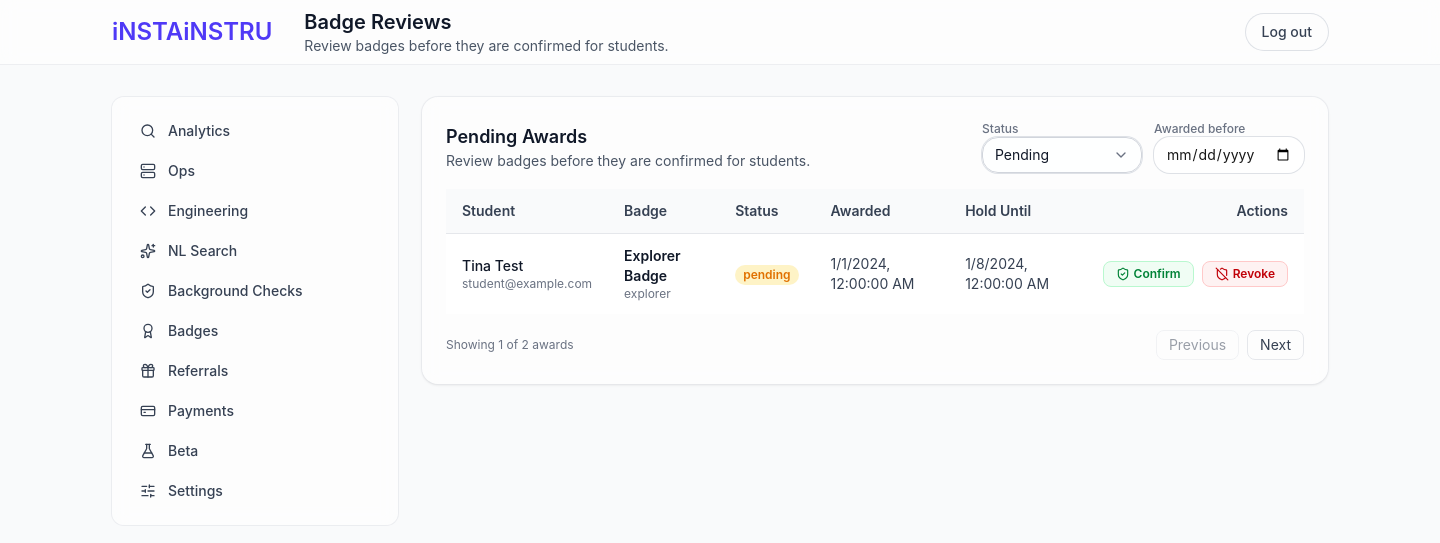
Test case: AdminPendingBadgesPage › requests next page when pagination advances
Expected: the text "Explorer Badge" is shown, [624,247,681,284]
Click the button "Next" at point(1276, 345), box [1247,330,1304,360]
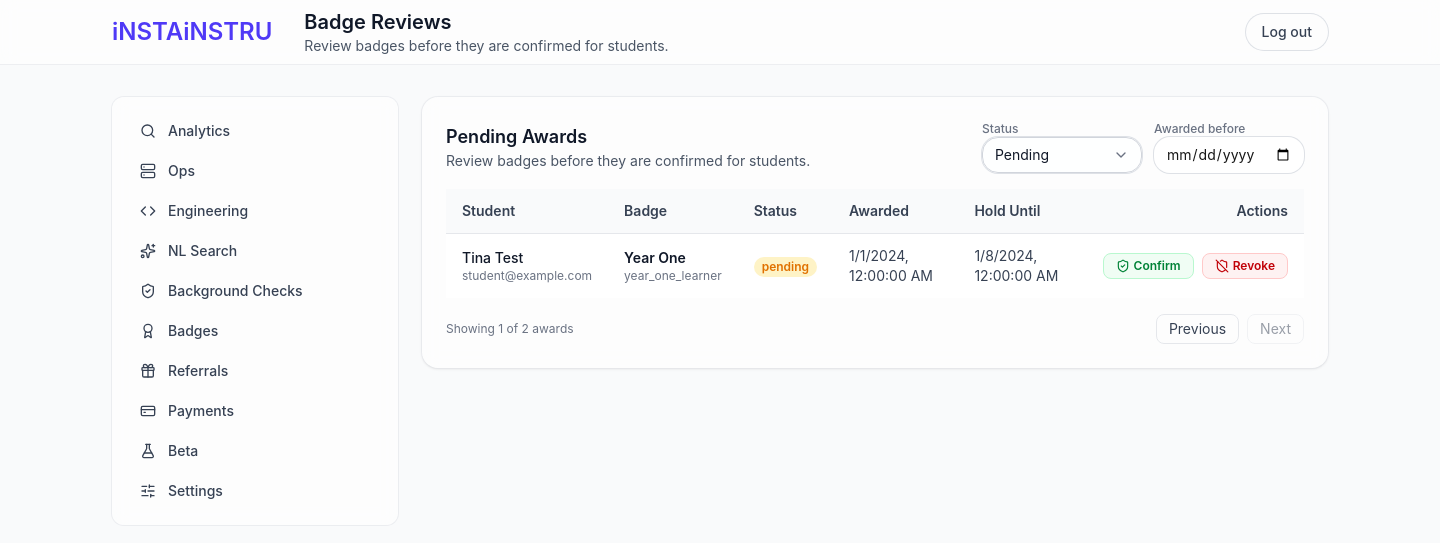
Expected: the text "Year One" is shown, [624,249,686,266]
